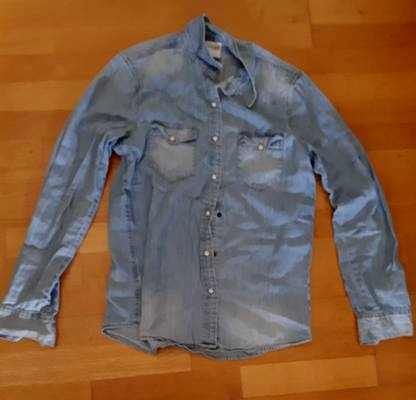Blazer: (0, 23, 407, 365)
